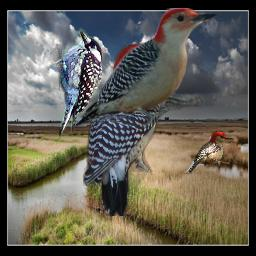Woodpecker: (72, 8, 221, 128), (83, 42, 185, 216), (42, 25, 111, 144), (184, 130, 235, 174)
